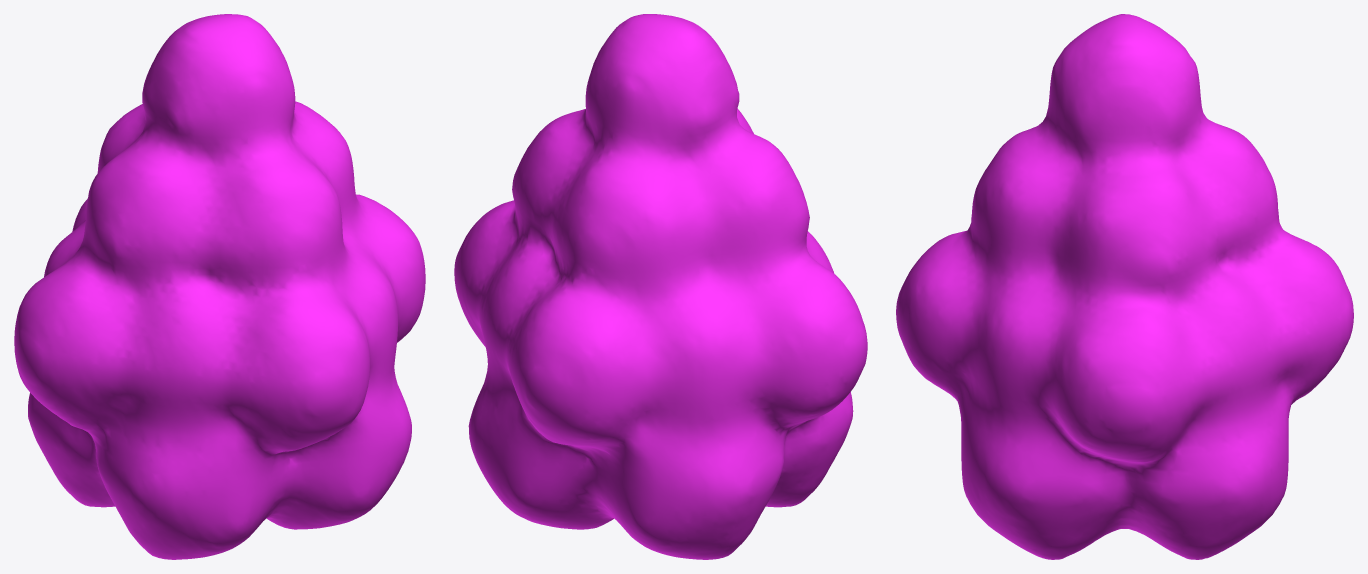
File: stone1.glb
The picture shows the model from 3 angles, left to right: view 1: azimuth 30°, elevation 25°; view 2: azimuth 150°, elevation 25°; view 3: azimuth 270°, elevation 25°; orthographic projection.
Parts seen in each view (by area): view 1: Volume Mesher; view 2: Volume Mesher; view 3: Volume Mesher.
Part boxes in pixels (bbox=[...]): Volume Mesher: bbox=[14, 14, 425, 559]; Volume Mesher: bbox=[454, 14, 867, 559]; Volume Mesher: bbox=[896, 14, 1353, 559].
Size of the model in its own units: 7.95 by 9.43 by 7.95.
